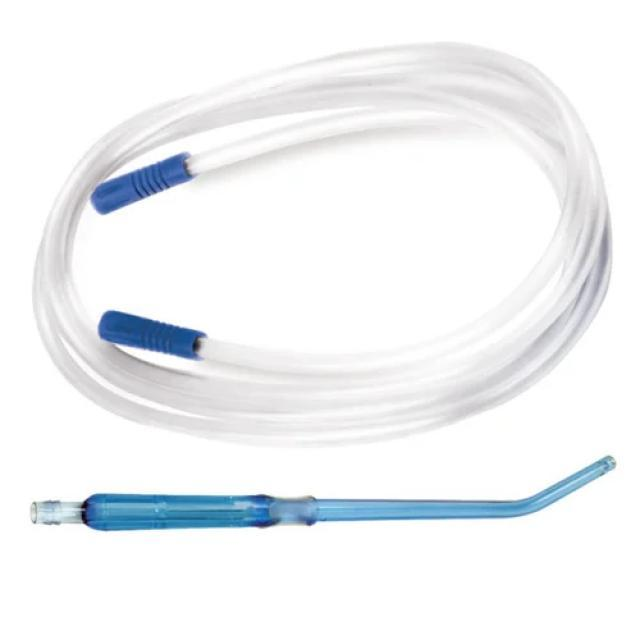Suction Tube Nozzle: (22, 36, 620, 536)
